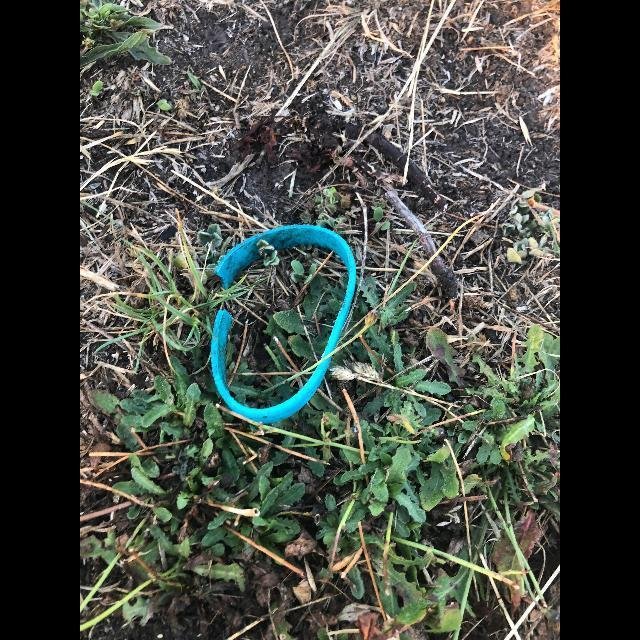Plastic: (210, 224, 356, 423)
